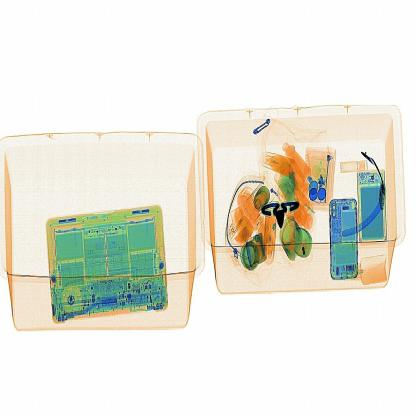gun: (261, 194, 302, 229)
